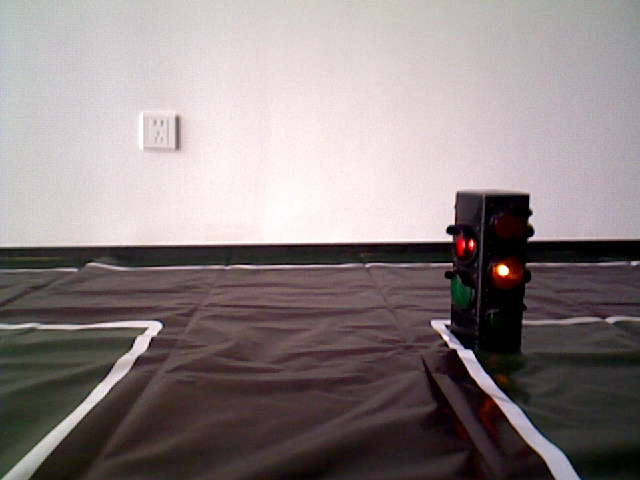yellow: (452, 190, 528, 348)
